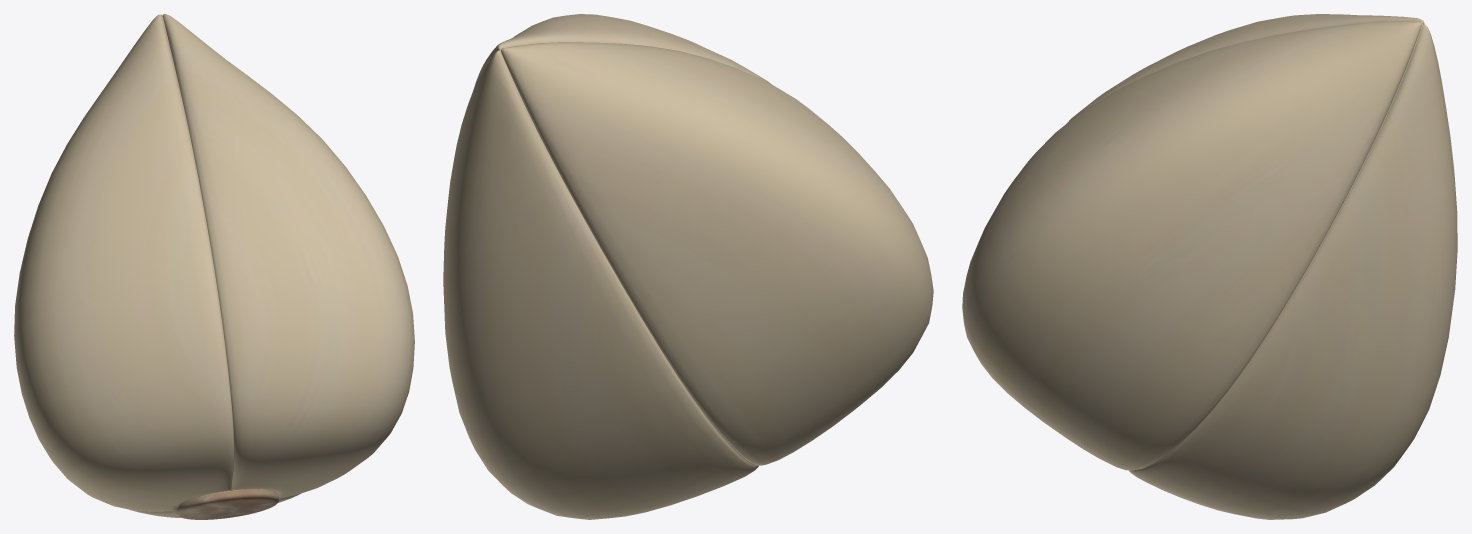
File: GrainBuckwheat032.obj
3 renders of one model, left to right at view 1: azimuth 30°, elevation 25°; view 2: azimuth 150°, elevation 25°; view 3: azimuth 270°, elevation 25°, orthographic. The views are drawn at different scales.
Visible parts, largest first — view 1: GrainBuckwheat032; view 2: GrainBuckwheat032; view 3: GrainBuckwheat032.
Boxes of the visible parts, bbox=[...] form: GrainBuckwheat032: bbox=[14, 14, 414, 519]; GrainBuckwheat032: bbox=[443, 14, 933, 519]; GrainBuckwheat032: bbox=[962, 14, 1457, 519].
Size of the model in its own units: 0.025 by 0.0305 by 0.0273.
1 material, 1 textured.
